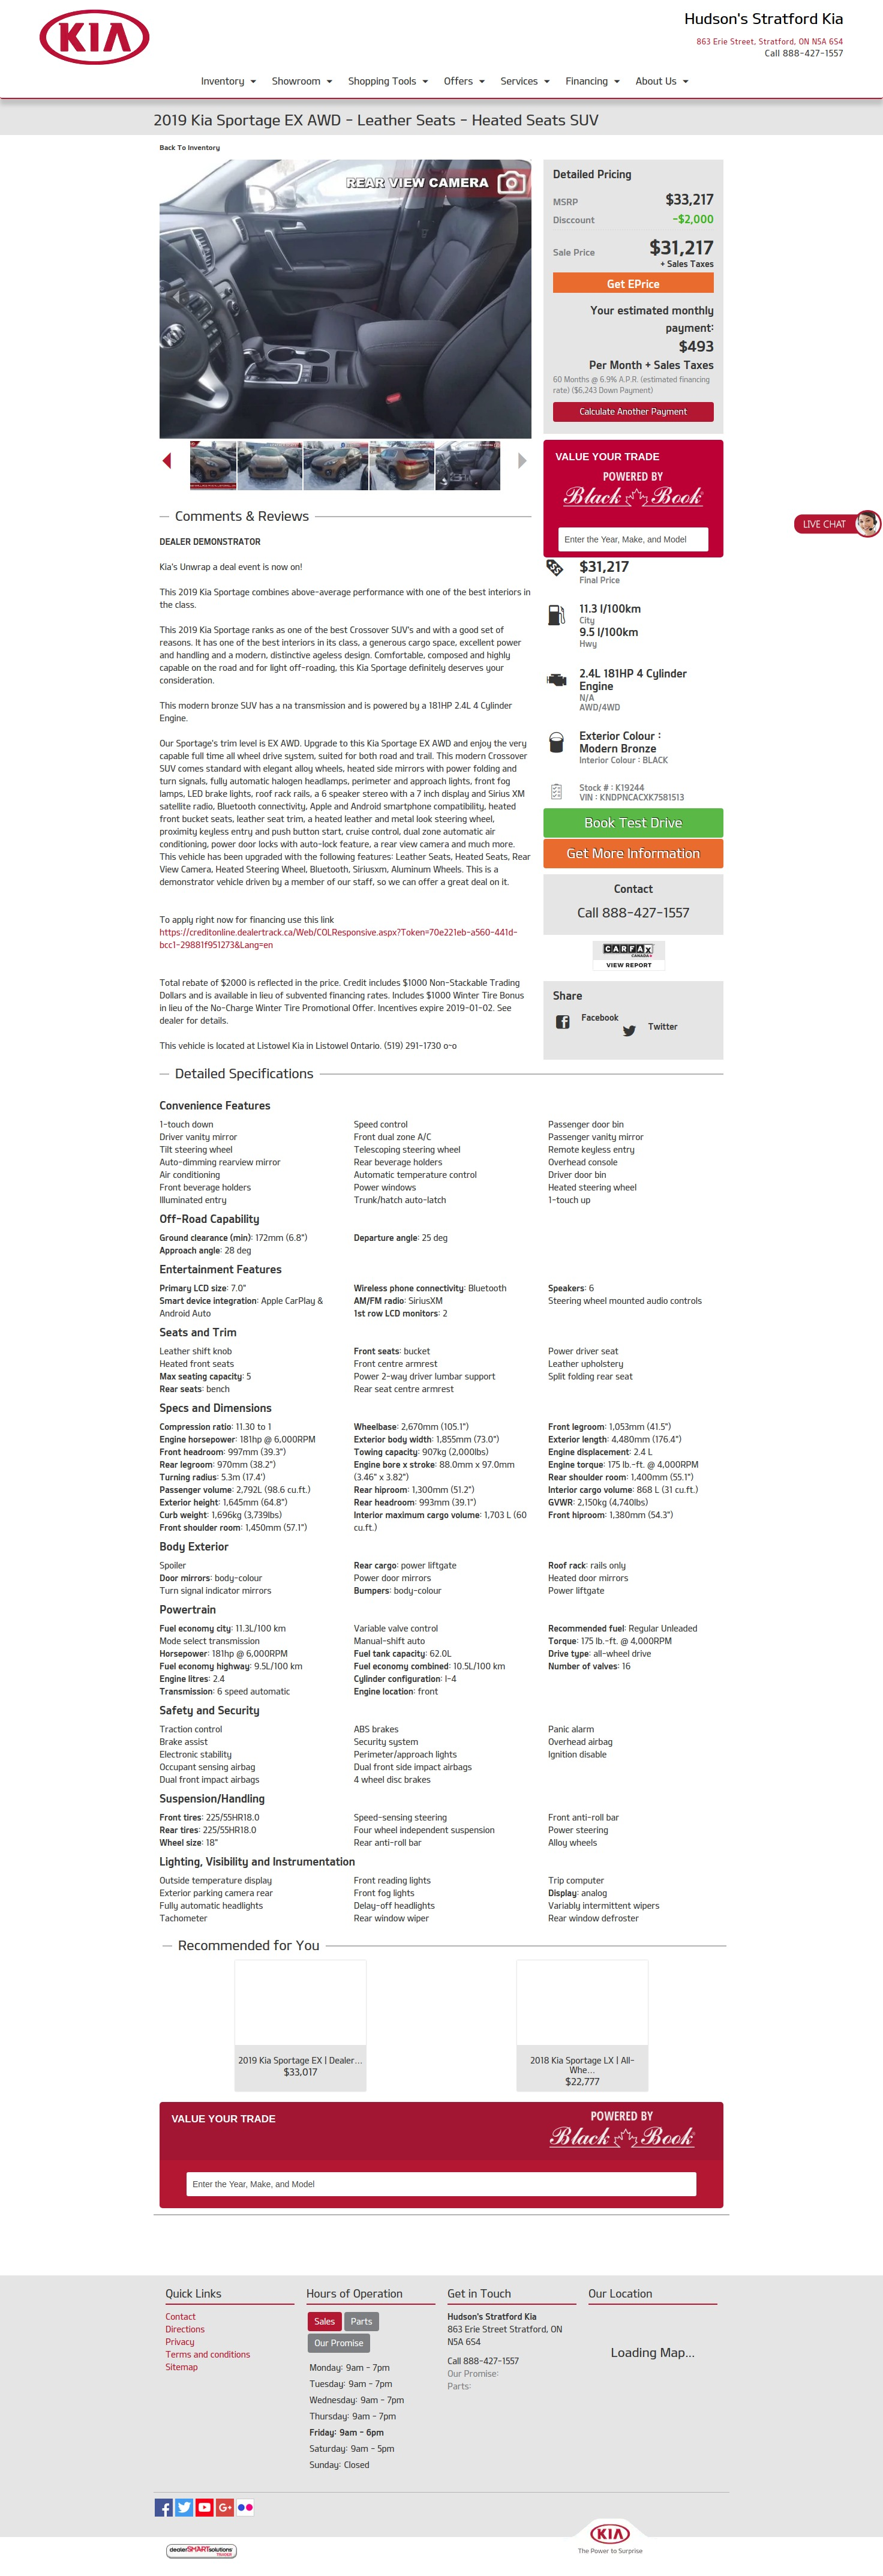car: (519, 453, 528, 470)
